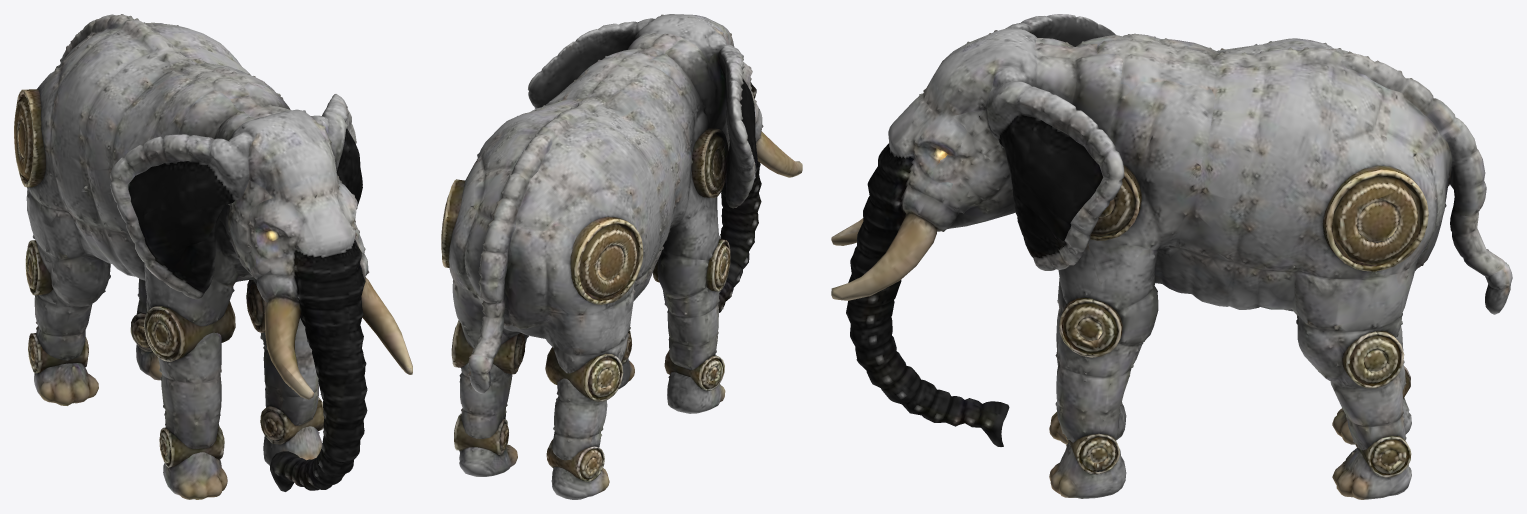
The model's file is MZ4250 - Clockwork Elephant_new.glb.
3 views of the same model, side by side, from view 1: azimuth 30°, elevation 25°; view 2: azimuth 150°, elevation 25°; view 3: azimuth 270°, elevation 25° (orthographic). The views are drawn at different scales.
Visible parts, largest first — view 1: Elephant t.001; view 2: Elephant t.001; view 3: Elephant t.001.
Boxes of the visible parts, x1,y1,x2,y2 form: Elephant t.001: [14, 14, 412, 499]; Elephant t.001: [441, 14, 802, 499]; Elephant t.001: [831, 14, 1512, 499].
Size of the model in its own units: 91.43 by 140 by 203.
1 material, 1 textured.
